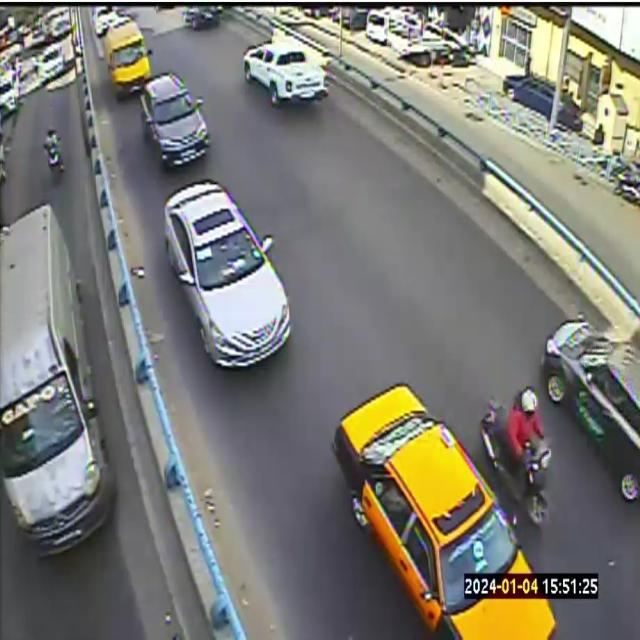car: (332, 384, 555, 639), (164, 179, 290, 367), (541, 315, 639, 501), (141, 73, 209, 167), (245, 41, 328, 104), (104, 22, 152, 98)
